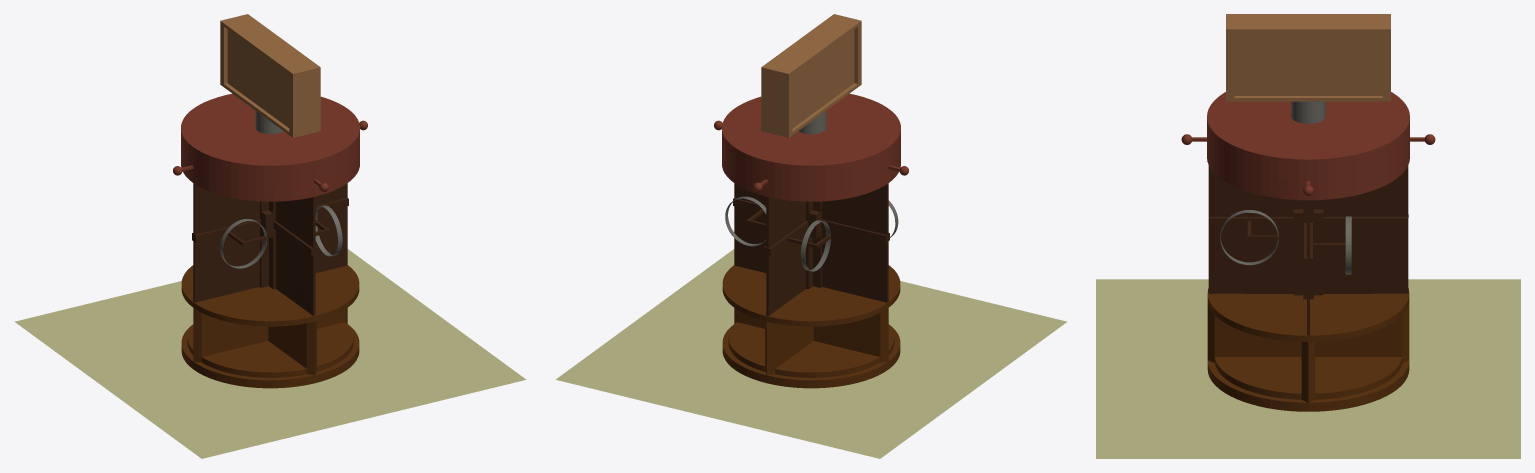
File: Estante_1.fbx
3 renders of one model, left to right at view 1: azimuth 30°, elevation 25°; view 2: azimuth 150°, elevation 25°; view 3: azimuth 270°, elevation 25°, orthographic. The views are drawn at different scales.
Parts seen in each view (by area): view 1: Suelo, Superior, Estructura, BaseInferio, Anuncio, BaseSuperior; view 2: Suelo, Superior, Estructura, BaseInferio, Anuncio, BaseSuperior, Exh_Cinturon3; view 3: Suelo, Estructura, Superior, Anuncio, BaseInferio, BaseSuperior, Base, Exh_Cinturon2.
Boxes of the visible parts, x1=… form: Suelo: x1=14, y1=249, x2=526, y2=458; Superior: x1=173, y1=93, x2=367, y2=201; Estructura: x1=192, y1=183, x2=348, y2=315; BaseInferio: x1=181, y1=308, x2=359, y2=388; Anuncio: x1=220, y1=14, x2=320, y2=137; BaseSuperior: x1=181, y1=265, x2=359, y2=326; Suelo: x1=555, y1=249, x2=1067, y2=458; Superior: x1=714, y1=93, x2=908, y2=201; Estructura: x1=733, y1=183, x2=889, y2=315; BaseInferio: x1=722, y1=308, x2=900, y2=388; Anuncio: x1=761, y1=14, x2=861, y2=137; BaseSuperior: x1=722, y1=265, x2=900, y2=326; Exh_Cinturon3: x1=800, y1=220, x2=830, y2=271; Suelo: x1=1096, y1=279, x2=1520, y2=458; Estructura: x1=1208, y1=166, x2=1408, y2=335; Superior: x1=1181, y1=92, x2=1435, y2=200; Anuncio: x1=1226, y1=14, x2=1390, y2=101; BaseInferio: x1=1207, y1=301, x2=1409, y2=411; BaseSuperior: x1=1207, y1=288, x2=1409, y2=341; Base: x1=1291, y1=101, x2=1325, y2=123; Exh_Cinturon2: x1=1220, y1=210, x2=1278, y2=265.
Size of the model in its own units: 8940 by 8071 by 8940.
